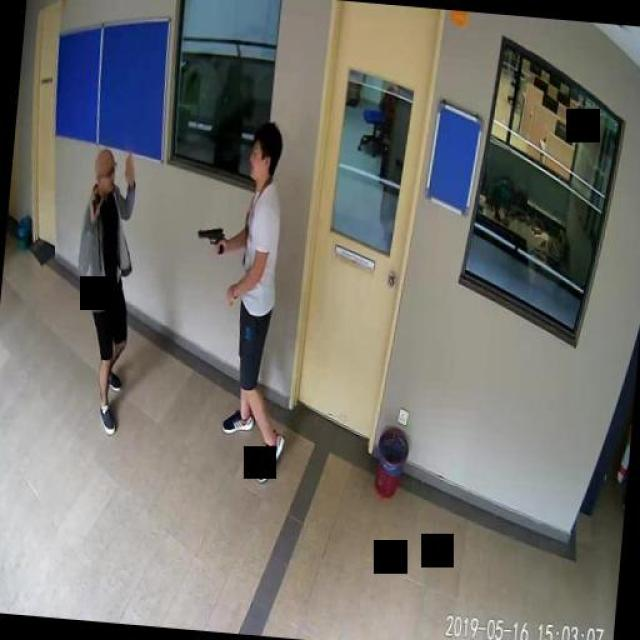gun: (195, 222, 225, 252)
